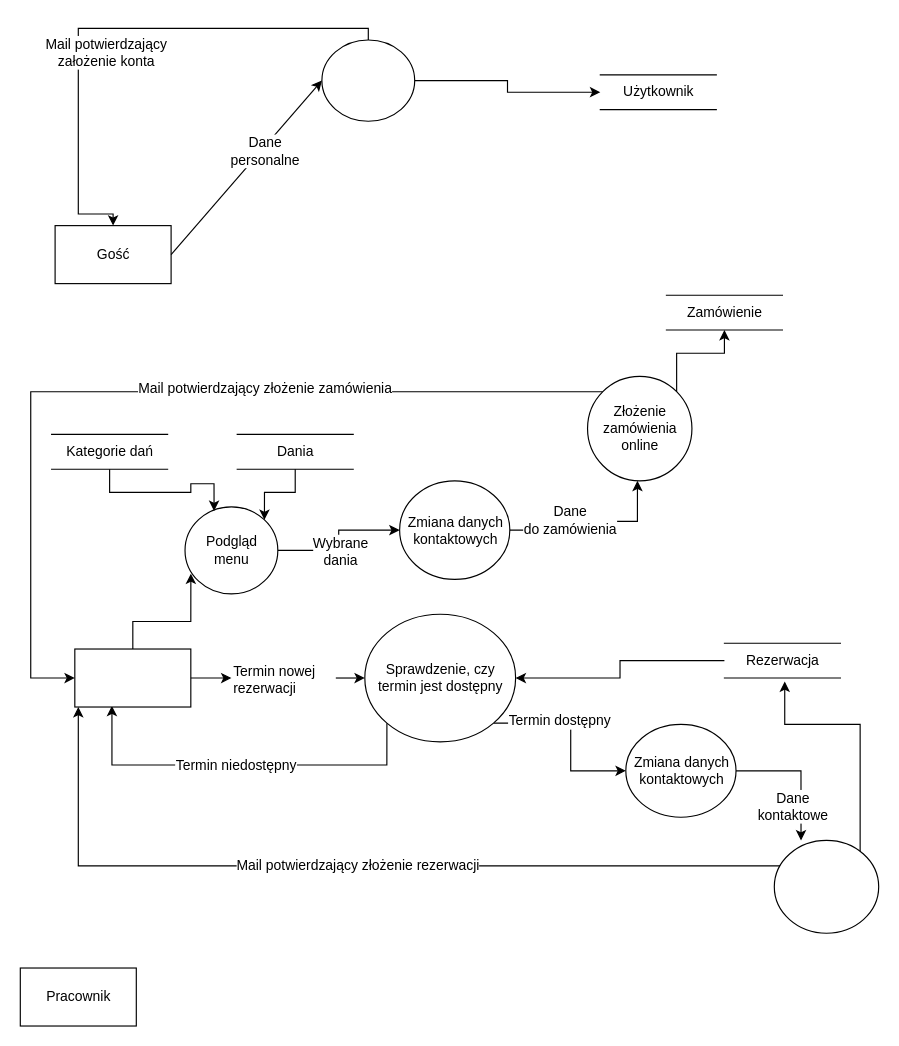
Image size: 899x1046. Some labels were removed from this diagram. The centre of each missing label's shape, as x and y in pixels:
"Klient" belongs at pixel 132 677.
"Rejestracja" belongs at pixel 368 80.
"Złożenie rezerwacji" belongs at pixel 826 886.
